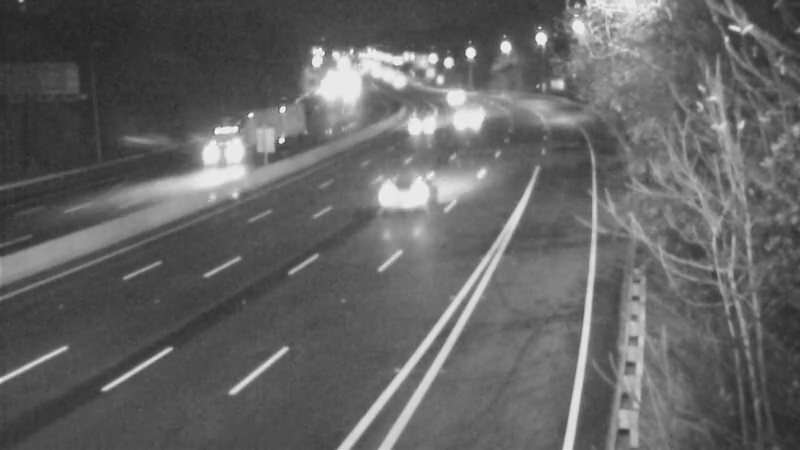vehicle: (370, 154, 450, 234), (179, 121, 259, 201), (432, 66, 482, 116), (438, 85, 488, 135), (381, 98, 431, 148)
